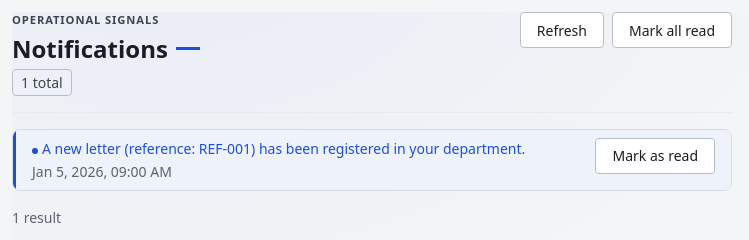
Test: NotificationsPage › marks one notification read
The width and height of the screenshot is (749, 240).
Expected: the link "A new letter" is shown, [42, 138, 525, 159]
Click the button "Mark as read" at point(655, 156), box [596, 138, 715, 174]
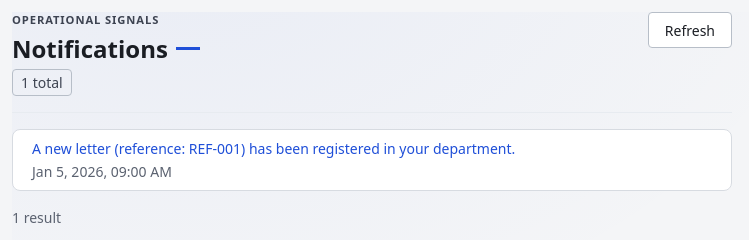
Expected: the button "Mark as read" is gone
